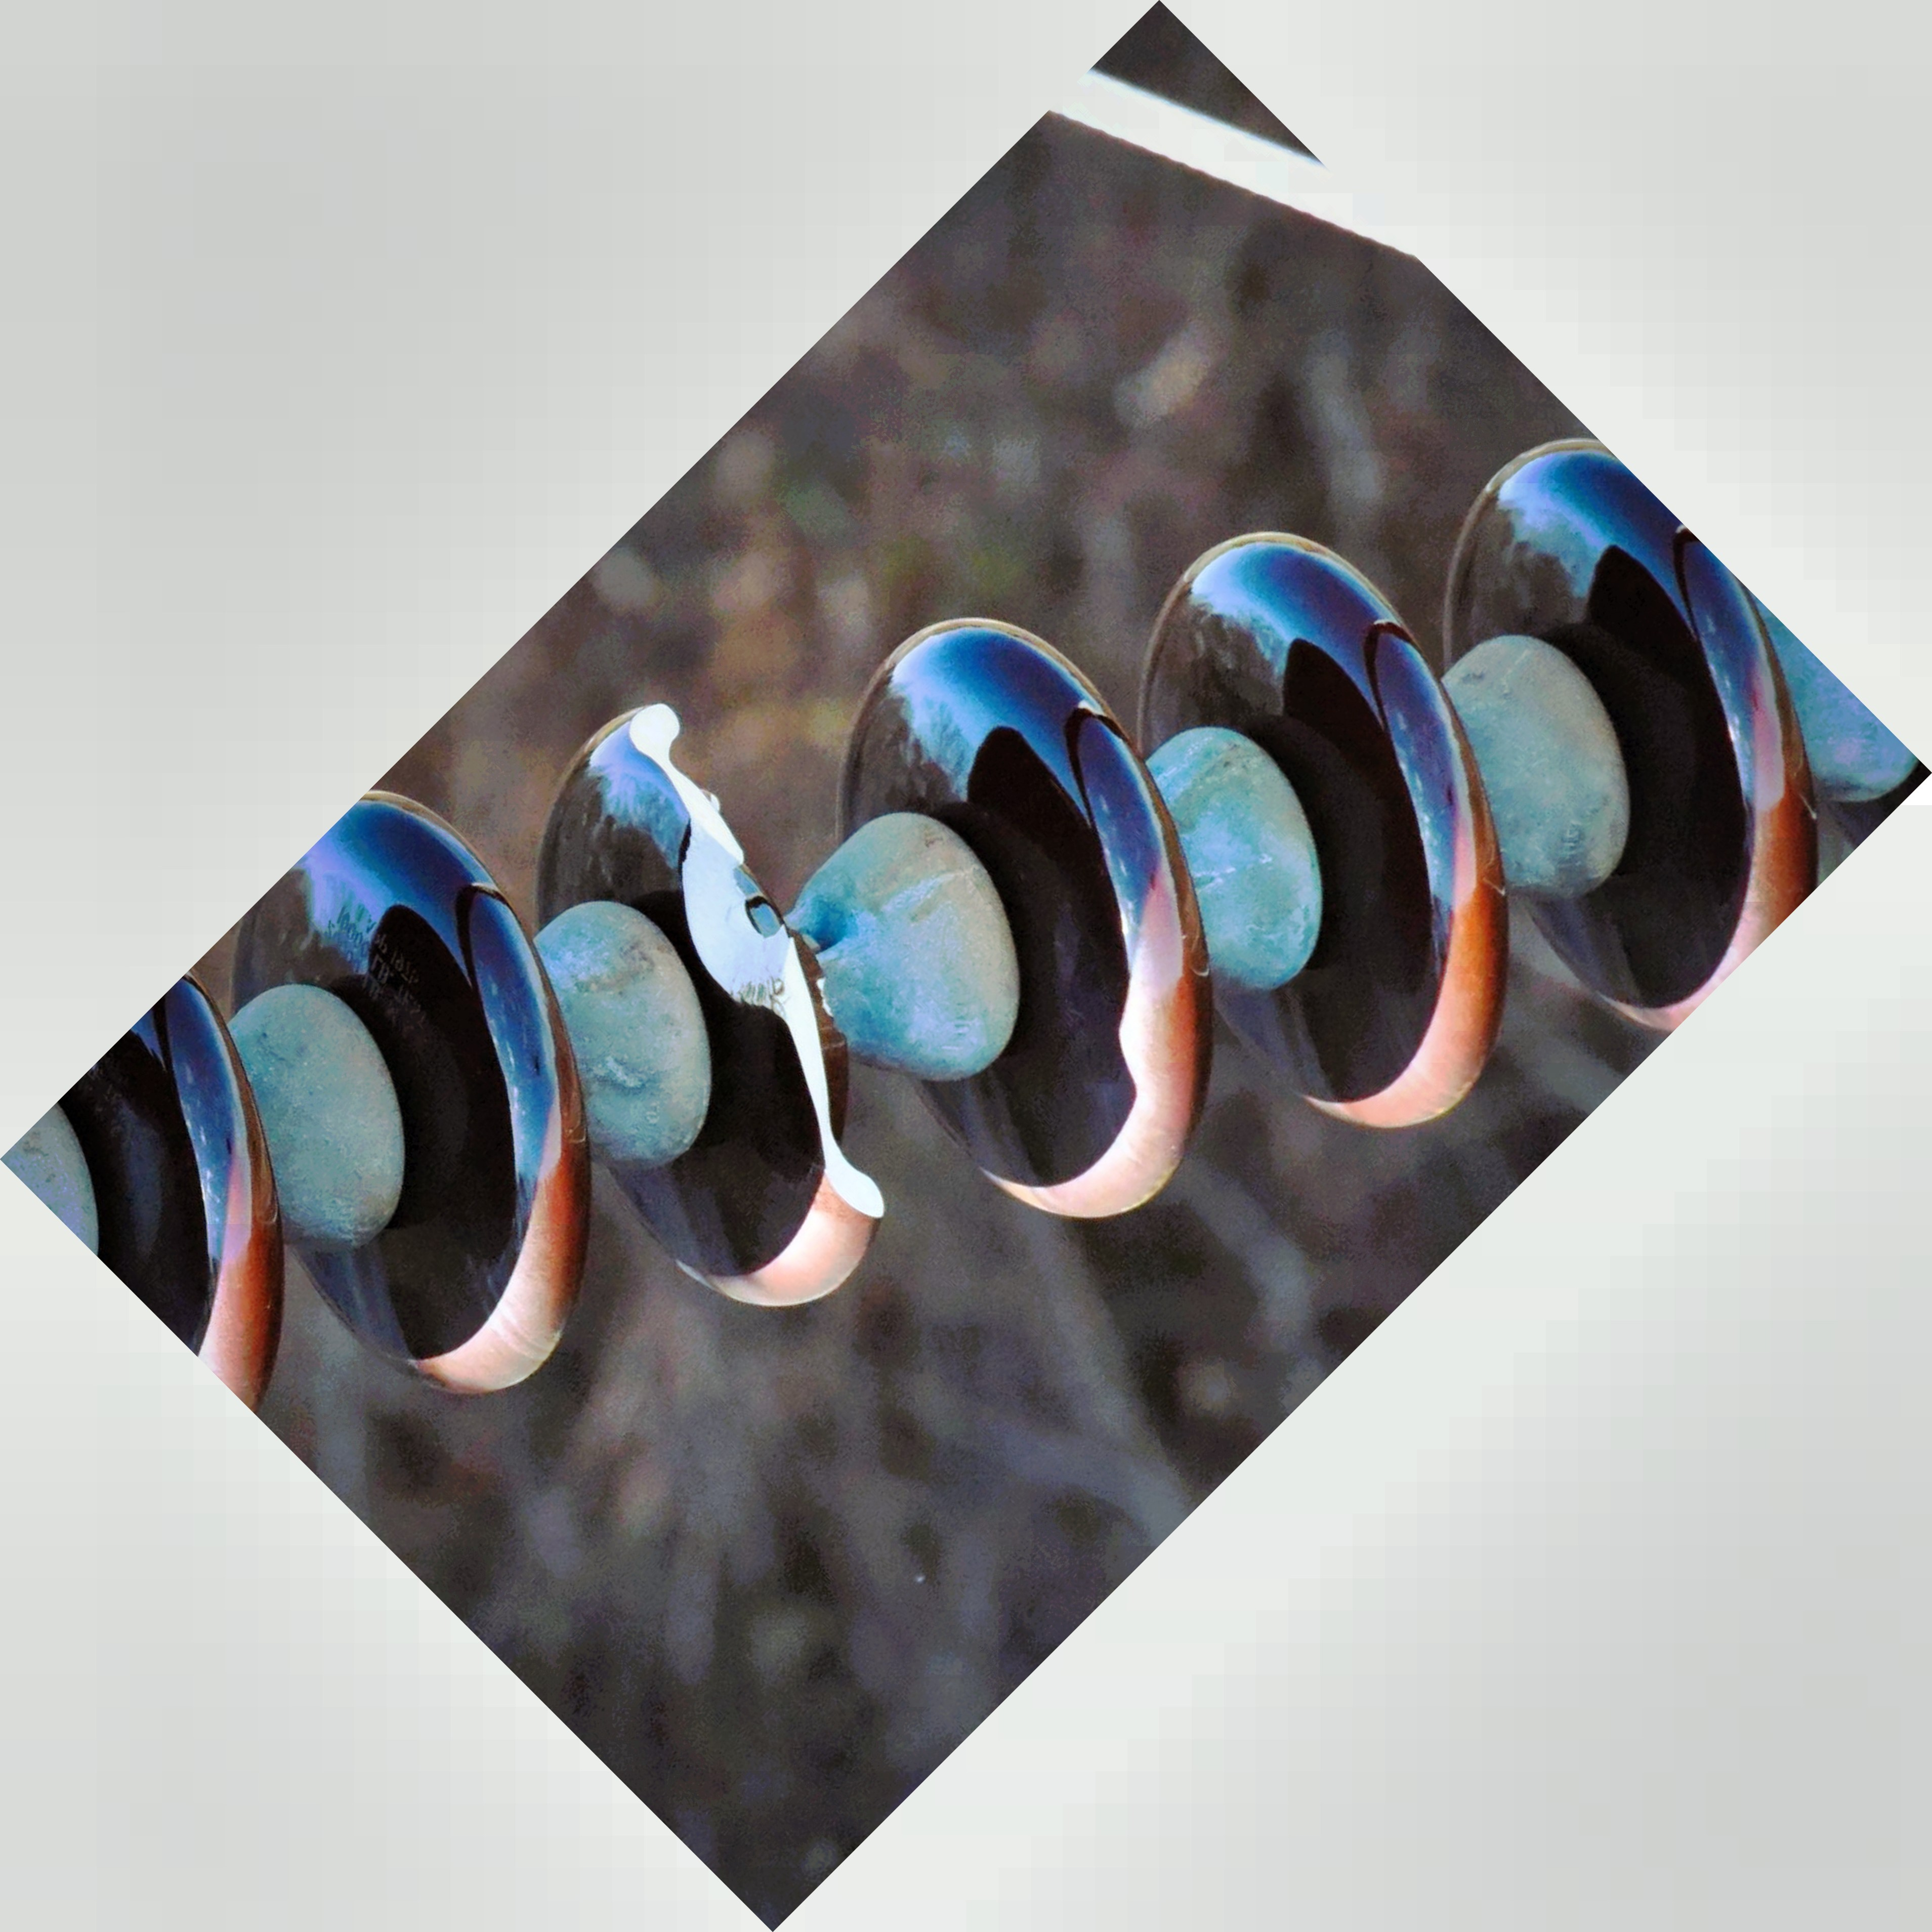insulator breakage: (531, 688, 925, 1329)
